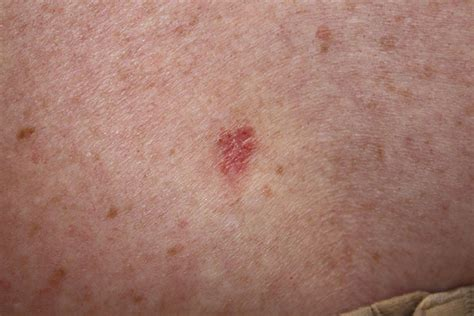Carcinoma: (204, 113, 269, 192)
